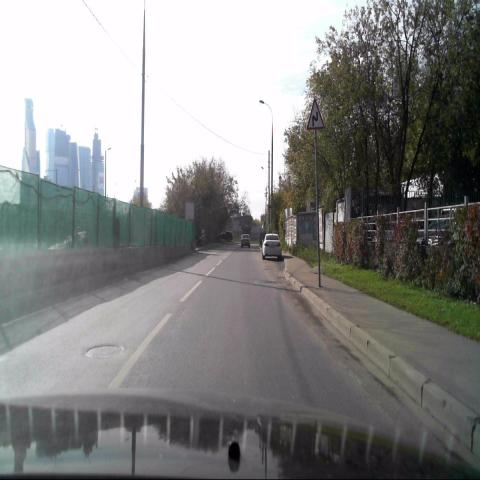1_12: (305, 96, 326, 132)
